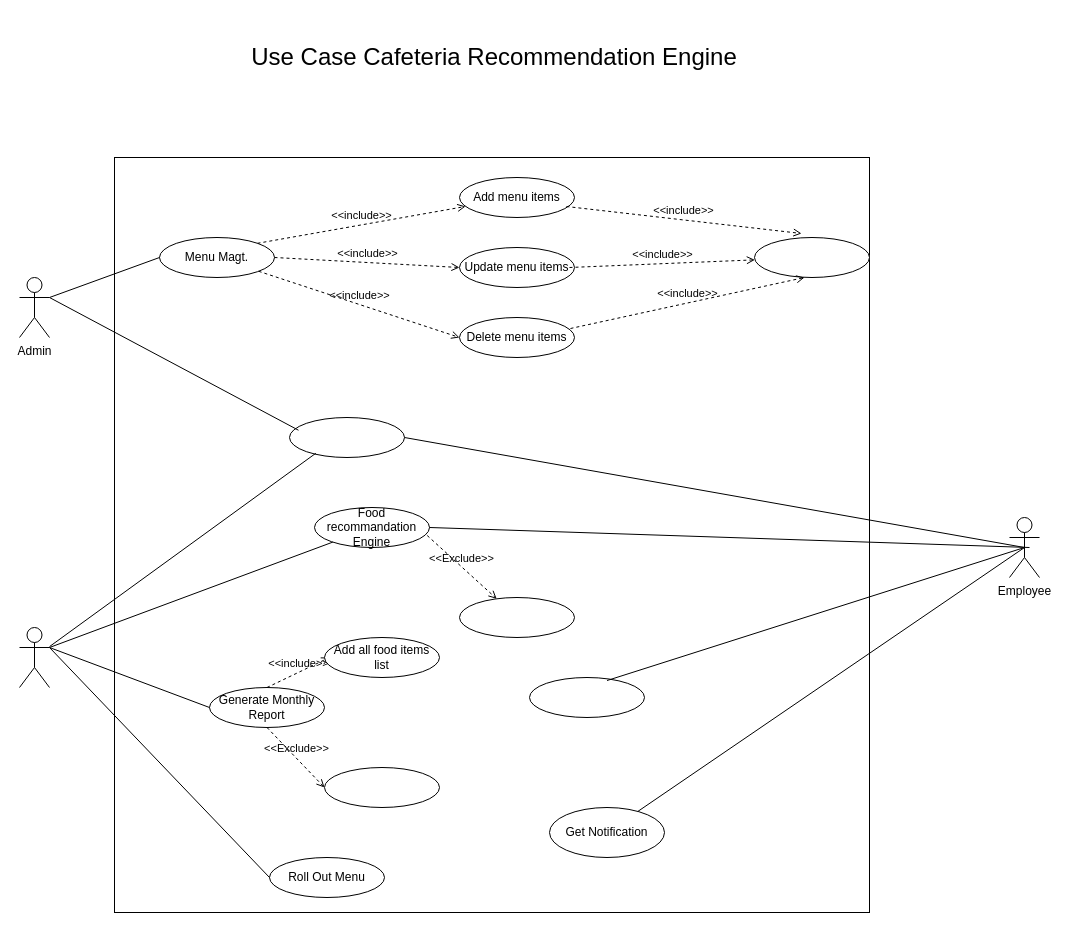
Image size: 1068x930. Some labels were removed from this diagram. Here are the shapes that lost their labels. From the top down, the box of each, then its label:
(754, 236, 870, 278): Send Notifications
(288, 416, 404, 458): User Authentication
(458, 596, 574, 638): Place order
(18, 626, 50, 688): Chef
(528, 676, 644, 718): Give Feedback
(324, 766, 440, 808): Show compariosn b/w all food items
